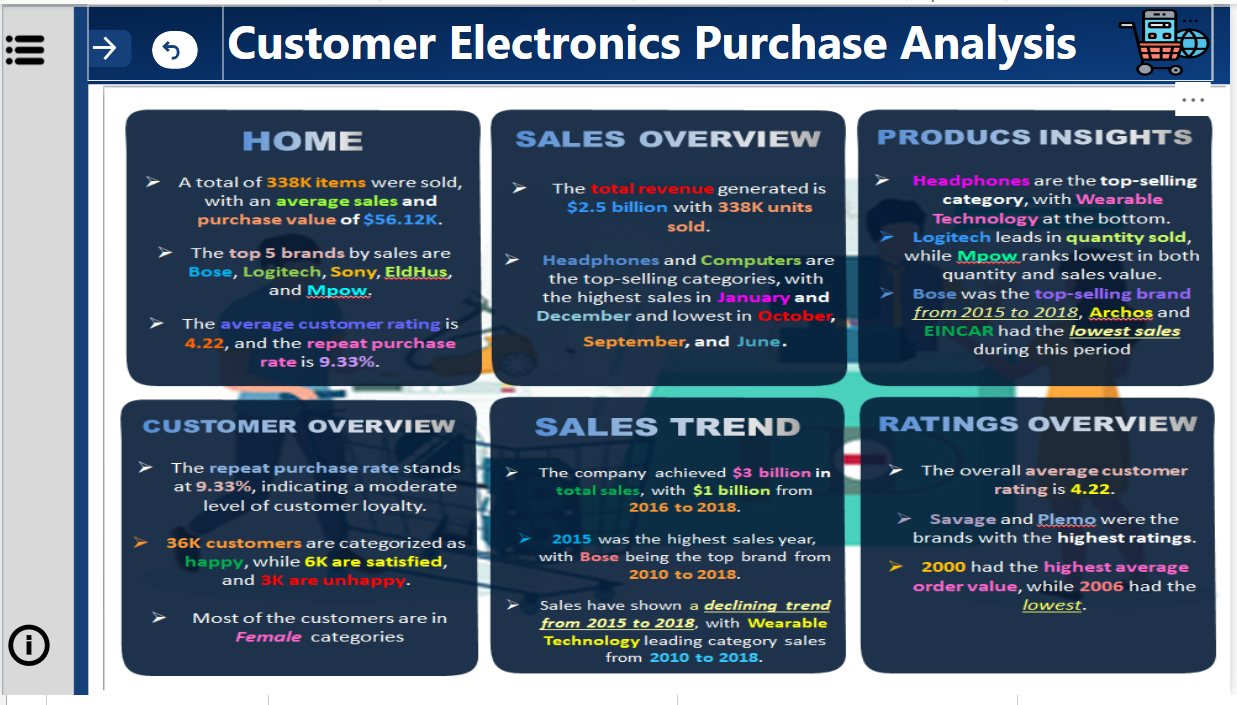

What the dashboard file says about the page in this screenshot:
{"tool":"powerbi","page":{"name":"HOME","canvas":[1280,720],"ordinal":0},"visuals":[{"type":"group","id":"g1","title":"HOME","box":[94.3,7.1,1174.3,705.7],"z":0},{"type":"slicer","title":"Year","fields":{"Values":["cleaned.year"]},"box":[988.3,229.8,278.8,127],"z":0,"group":"g1"},{"type":"actionButton","title":"info","box":[1.3,628.3,53.1,79.7],"z":0,"group":"g2"},{"type":"actionButton","title":"Menu","box":[0.4,0,61,95.3],"z":1000,"group":"g2"},{"type":"actionButton","title":"Close Page","box":[94.3,33.5,46.2,39.6],"z":1000,"group":"g1"},{"type":"group","id":"g2","title":"Menu bar","box":[0.4,0,61,708],"z":2000},{"type":"actionButton","title":"Reset","box":[161.9,35.1,47.8,39.6],"z":2000,"group":"g1"},{"type":"textbox","box":[234.5,7.1,1032.6,79.2],"z":4000,"group":"g1"},{"type":"image","box":[1163.2,7.1,104.7,79.7],"z":5000,"group":"g1"},{"type":"slicer","title":"Category","fields":{"Values":["cleaned.category"]},"box":[424.2,234.7,179.8,89.1],"z":6000,"group":"g1"},{"type":"slicer","title":"Month","fields":{"Values":["cleaned.Month"]},"box":[815.1,234.7,160,89.1],"z":7000,"group":"g1"},{"type":"slicer","title":"Quarter","fields":{"Values":["cleaned.Quarter"]},"box":[105.8,234.7,305.2,89.1],"z":8000,"group":"g1"},{"type":"cardVisual","fields":{"Data":["Sum(cleaned.quantity)","Avg(cleaned.amount)","cleaned.Average Order Value","Avg(cleaned.rating)","cleaned.Repeat Purchase Rate (%)"]},"box":[105.8,102.8,1161.2,127],"z":9000,"group":"g1"},{"type":"slicer","title":"Brands","fields":{"Values":["cleaned.brand"]},"box":[617.2,234.7,186.4,89.1],"z":10000,"group":"g1"},{"type":"pieChart","title":"Top 5 Brand Wise Sales Percentage","fields":{"Y":["Sum(cleaned.amount)"],"Category":["cleaned.brand"]},"box":[868.4,367.1,400,345.3],"z":11000,"group":"g1"},{"type":"barChart","title":"Performance of Top 5 Brands in Categories","fields":{"Y":["Sum(cleaned.rating)"],"Category":["cleaned.brand"],"Series":["cleaned.category"]},"box":[106.3,339.7,745.3,372.6],"z":12000,"group":"g1"}]}

Visuals, with their boxes on the page's 1280x720 design canvas (x1, y1, x2, y2). These are canvas units, not pixel positions in the 1237x705 screenshot, which may show the page scaled, cropped or inside an application window:
"HOME" group: bbox=[94, 7, 1269, 713]
"Year" slicer: bbox=[988, 230, 1267, 357]
"info" actionButton: bbox=[1, 628, 54, 708]
"Menu" actionButton: bbox=[0, 0, 61, 95]
"Close Page" actionButton: bbox=[94, 34, 140, 73]
"Menu bar" group: bbox=[0, 0, 61, 708]
"Reset" actionButton: bbox=[162, 35, 210, 75]
textbox: bbox=[234, 7, 1267, 86]
image: bbox=[1163, 7, 1268, 87]
"Category" slicer: bbox=[424, 235, 604, 324]
"Month" slicer: bbox=[815, 235, 975, 324]
"Quarter" slicer: bbox=[106, 235, 411, 324]
cardVisual - Sum(cleaned.quantity) x Avg(cleaned.amount): bbox=[106, 103, 1267, 230]
"Brands" slicer: bbox=[617, 235, 804, 324]
"Top 5 Brand Wise Sales Percentage" pieChart: bbox=[868, 367, 1268, 712]
"Performance of Top 5 Brands in Categories" barChart: bbox=[106, 340, 852, 712]
